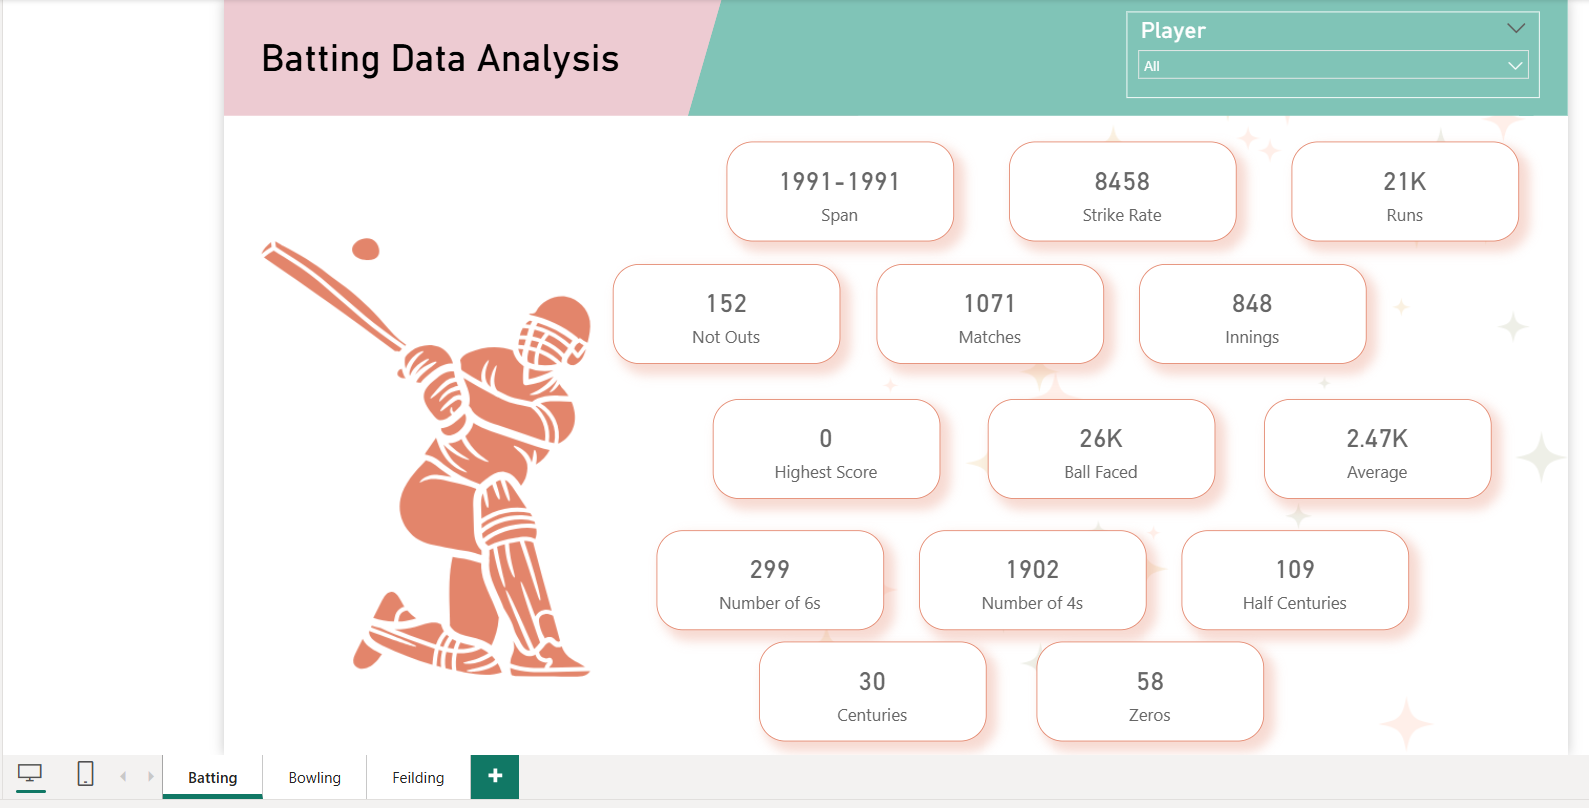

Layout of this report page (visuals, bound fields, positions):
{"tool":"powerbi","page":{"name":"Batting","canvas":[1280,720],"ordinal":0},"visuals":[{"type":"shape","box":[0,0,604,111.5],"z":0},{"type":"shape","box":[442.2,0,837.8,111.5],"z":1000},{"type":"shape","box":[1233.3,0,46.7,111.5],"z":2000},{"type":"slicer","fields":{"Values":["Batting.Player"]},"box":[859.9,11.5,393.9,82.2],"z":3000},{"type":"card","fields":{"Values":["Min(Batting.Span)"]},"box":[479,135.6,216.4,95.2],"z":4000},{"type":"card","fields":{"Values":["Sum(Batting.SR)"]},"box":[748.1,135.6,216.4,95.2],"z":5000},{"type":"card","fields":{"Values":["Sum(Batting.Runs)"]},"box":[1017.1,135.6,216.4,95.2],"z":6000},{"type":"card","fields":{"Values":["Sum(Batting.NO)"]},"box":[370.8,252.5,216.4,95.2],"z":7000},{"type":"card","fields":{"Values":["Sum(Batting.Mat)"]},"box":[621.1,252.5,216.4,95.2],"z":8000},{"type":"card","fields":{"Values":["Sum(Batting.Inns)"]},"box":[871.4,252.5,216.4,95.2],"z":9000},{"type":"card","fields":{"Values":["Min(Batting.HS)"]},"box":[464.9,380.9,216.4,95.2],"z":10000},{"type":"card","fields":{"Values":["Sum(Batting.BF)"]},"box":[727.5,380.9,216.4,95.2],"z":11000},{"type":"card","fields":{"Values":["Sum(Batting.Ave)"]},"box":[990.1,380.9,216.4,95.2],"z":12000},{"type":"card","fields":{"Values":["Sum(Batting.6s)"]},"box":[411.5,506.4,216.4,95.2],"z":13000},{"type":"card","fields":{"Values":["Sum(Batting.4s)"]},"box":[661.8,506.4,216.4,95.2],"z":14000},{"type":"card","fields":{"Values":["Sum(Batting.50)"]},"box":[912.2,506.4,216.4,95.2],"z":15000},{"type":"card","fields":{"Values":["Sum(Batting.100)"]},"box":[509.6,611.7,216.4,95.2],"z":16000},{"type":"card","fields":{"Values":["Sum(Batting.0)"]},"box":[773.7,611.7,216.4,95.2],"z":17000}]}

Visuals, with their boxes on the page's 1280x720 design canvas (x1, y1, x2, y2). These are canvas units, not pixel positions in the 1589x808 screenshot, which may show the page scaled, cropped or inside an application window:
shape: bbox=(0, 0, 604, 112)
shape: bbox=(442, 0, 1280, 112)
shape: bbox=(1233, 0, 1280, 112)
slicer - Batting.Player: bbox=(860, 12, 1254, 94)
card - Min(Batting.Span): bbox=(479, 136, 695, 231)
card - Sum(Batting.SR): bbox=(748, 136, 964, 231)
card - Sum(Batting.Runs): bbox=(1017, 136, 1234, 231)
card - Sum(Batting.NO): bbox=(371, 252, 587, 348)
card - Sum(Batting.Mat): bbox=(621, 252, 838, 348)
card - Sum(Batting.Inns): bbox=(871, 252, 1088, 348)
card - Min(Batting.HS): bbox=(465, 381, 681, 476)
card - Sum(Batting.BF): bbox=(728, 381, 944, 476)
card - Sum(Batting.Ave): bbox=(990, 381, 1206, 476)
card - Sum(Batting.6s): bbox=(412, 506, 628, 602)
card - Sum(Batting.4s): bbox=(662, 506, 878, 602)
card - Sum(Batting.50): bbox=(912, 506, 1129, 602)
card - Sum(Batting.100): bbox=(510, 612, 726, 707)
card - Sum(Batting.0): bbox=(774, 612, 990, 707)
